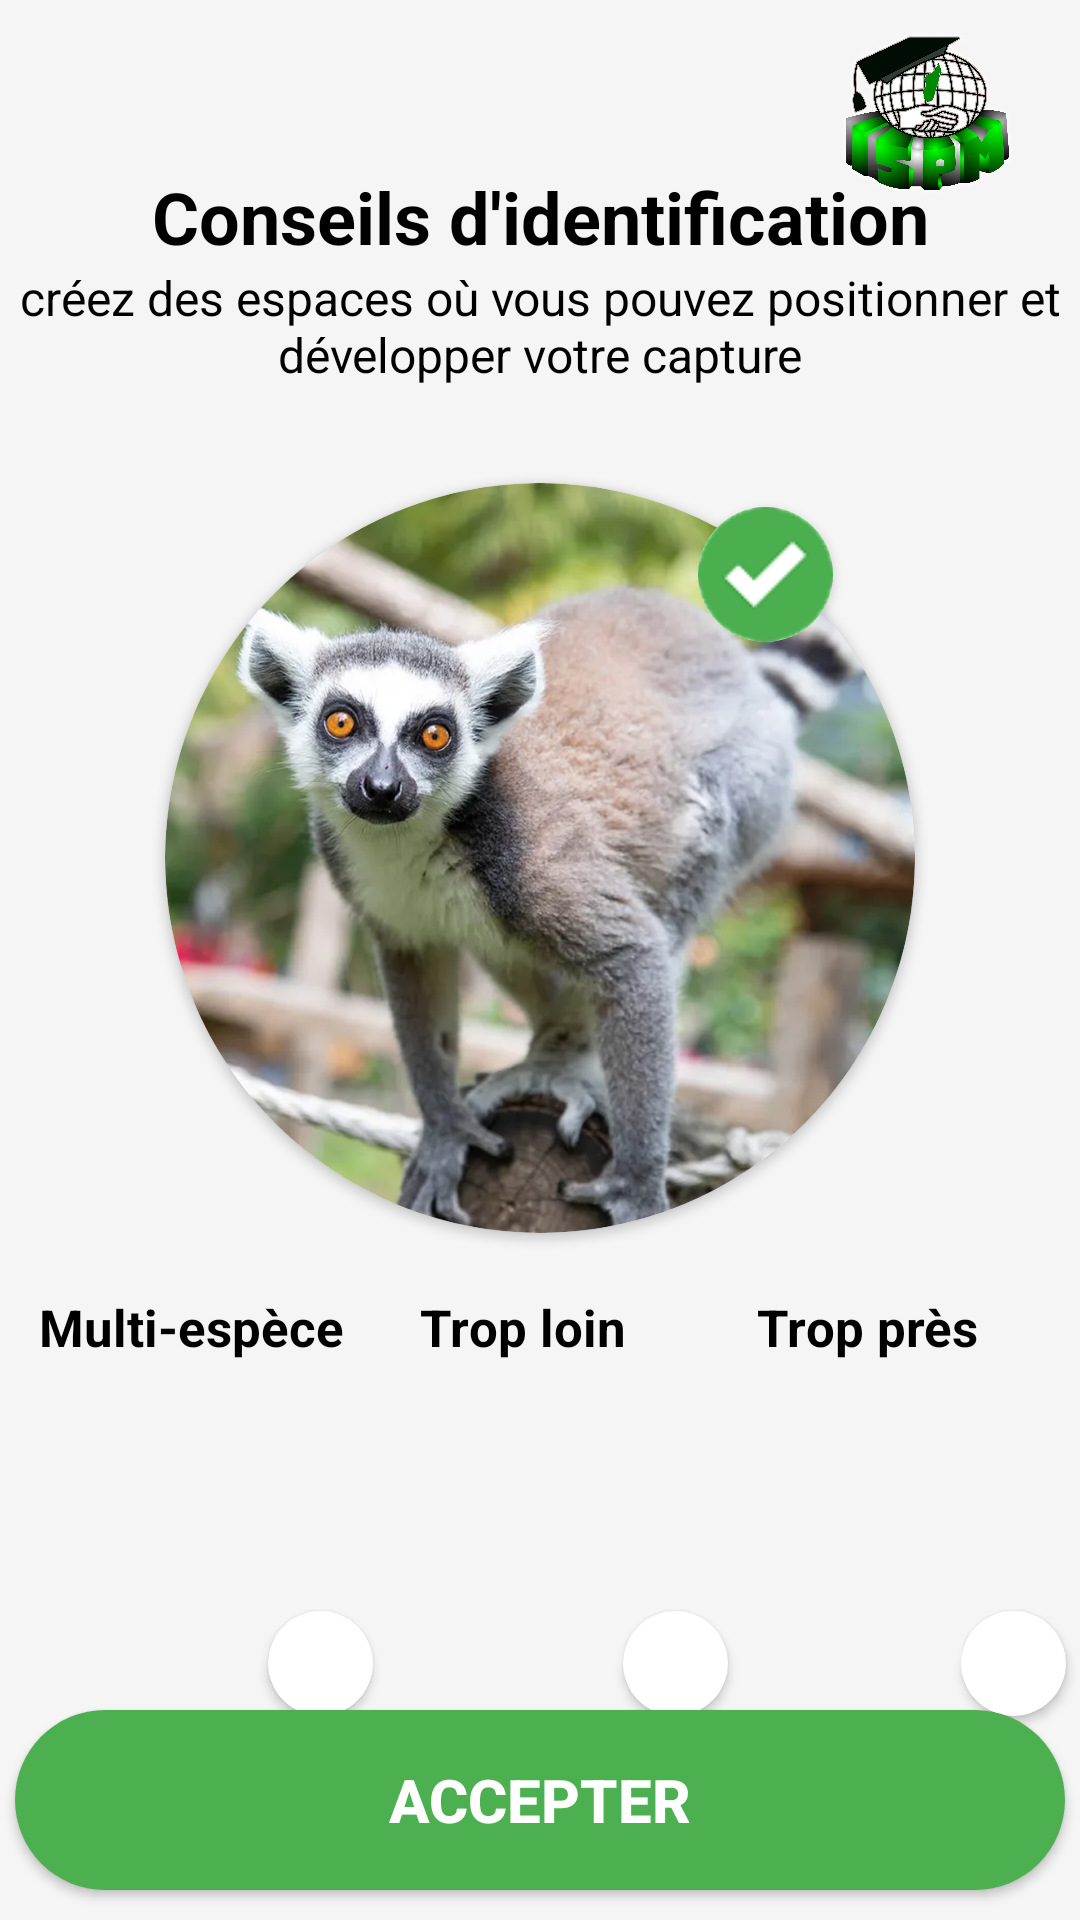

Point at icon controls on the screen. Image size 1080 x 1920, points as (x=x, y=y).
accepte: (x=765, y=574)
